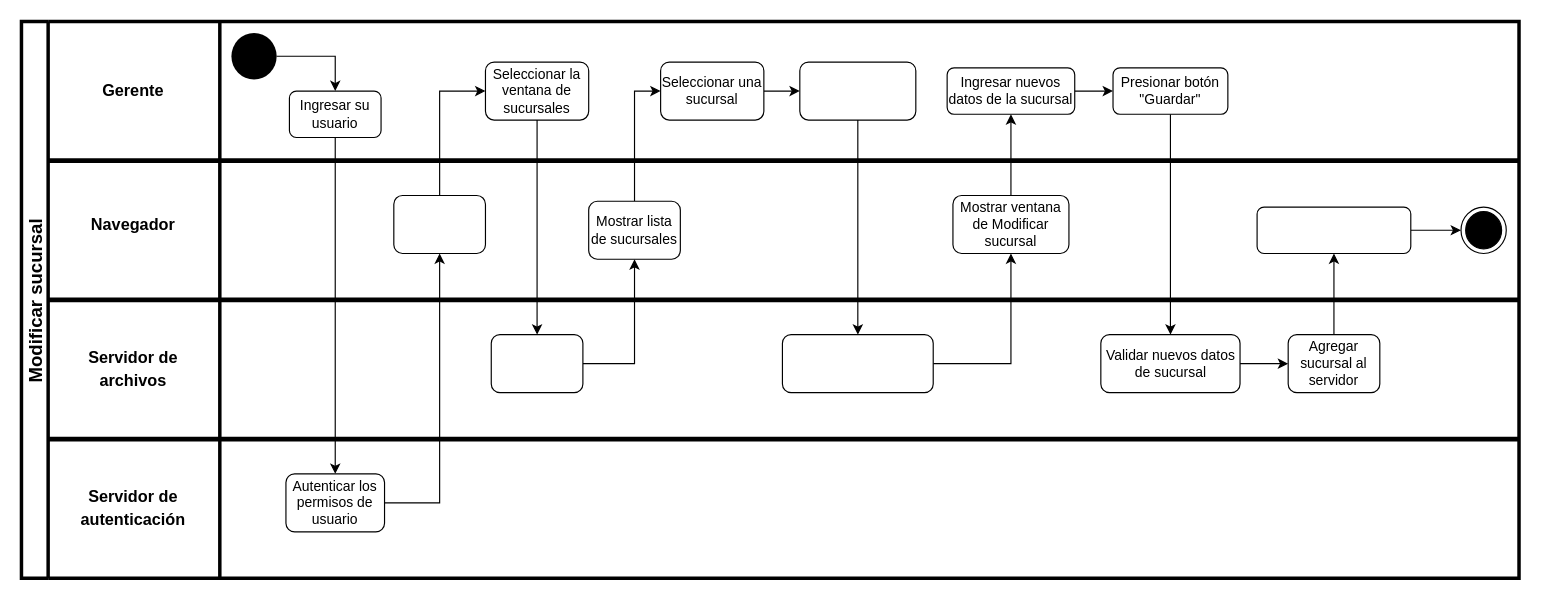
Some shapes in this 1543 by 601 pixel diagram are drawn without their labels. The shapes that lost their labels are listed below. From the top down, each one's centre as x and y in pixels, then its label:
pixel 857 90: Presionar botón "Modificar"
pixel 439 223: Mostrar la ventana del gerente
pixel 1333 229: Mostrar mensaje "Sucursal modificada"
pixel 536 363: Consultar sucursales
pixel 857 363: Consultar datos de la sucursal seleccionada
